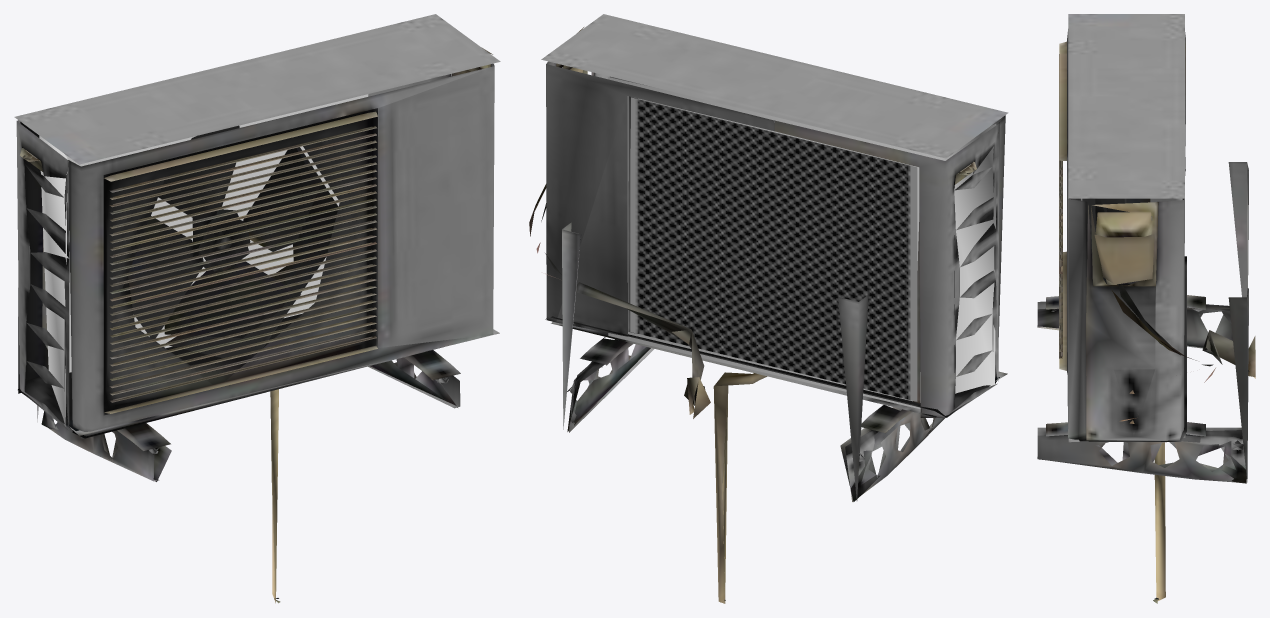
Rendered from aircon.glb.
3 renders of one model, left to right at view 1: azimuth 30°, elevation 25°; view 2: azimuth 150°, elevation 25°; view 3: azimuth 270°, elevation 25°, orthographic. The views are drawn at different scales.
Parts seen in each view (by area): view 1: exterior_aircon_unit; view 2: exterior_aircon_unit; view 3: exterior_aircon_unit.
Boxes of the visible parts, bbox=[...] form: exterior_aircon_unit: bbox=[14, 14, 500, 603]; exterior_aircon_unit: bbox=[529, 14, 1008, 603]; exterior_aircon_unit: bbox=[1037, 14, 1255, 603].
Size of the model in its own units: 0.7934 by 0.9134 by 0.3751.
Materials: 2 (2 with a texture image).
